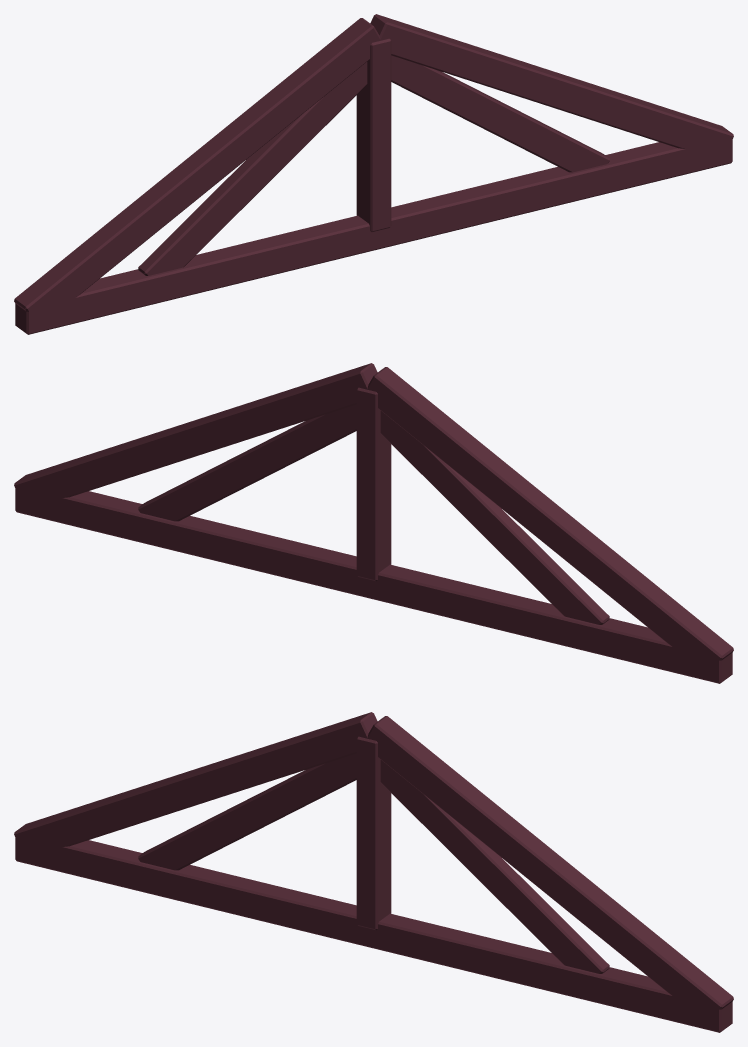
Rendered from truss.glb.
3 views of the same model, one above another, from view 1: azimuth 30°, elevation 25°; view 2: azimuth 150°, elevation 25°; view 3: azimuth 330°, elevation 25° (orthographic).
Parts seen in each view (by area): view 1: Viga; view 2: Viga; view 3: Viga.
Boxes of the visible parts, x1,y1,x2,y2 form: Viga: (14,14,733,334); Viga: (14,363,733,683); Viga: (14,712,733,1032).
Bounding box in the file's own units: 5.02 × 1.52 × 0.1899.
